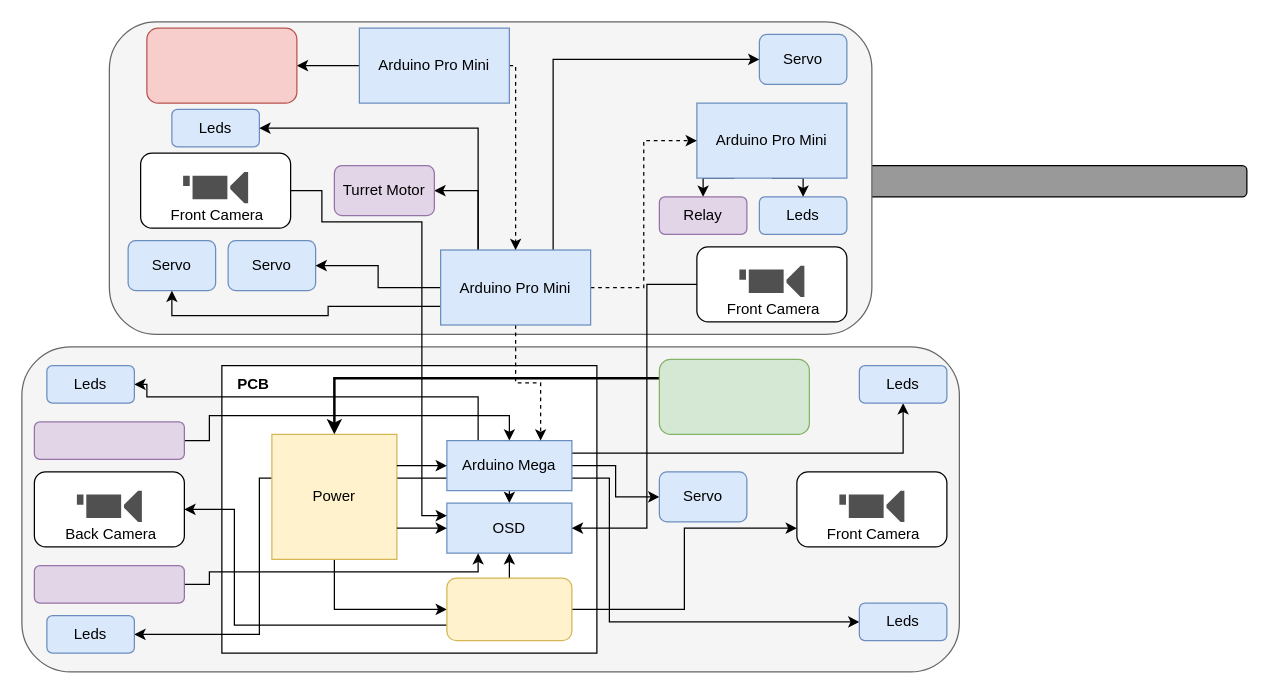
Image size: 1269x694. Some labels were removed from this diagram. Here are the shapes that lost their labels. From the top down, the centre of each, then its label:
the point at 221,65: Motors and end switches
the point at 733,396: Battery 4S Li-Po
the point at 108,440: nRF24
the point at 108,583: TS832
the point at 509,609: Camera Power Switcher
